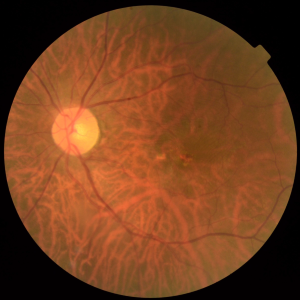retina_disease: (39, 94, 225, 207)
